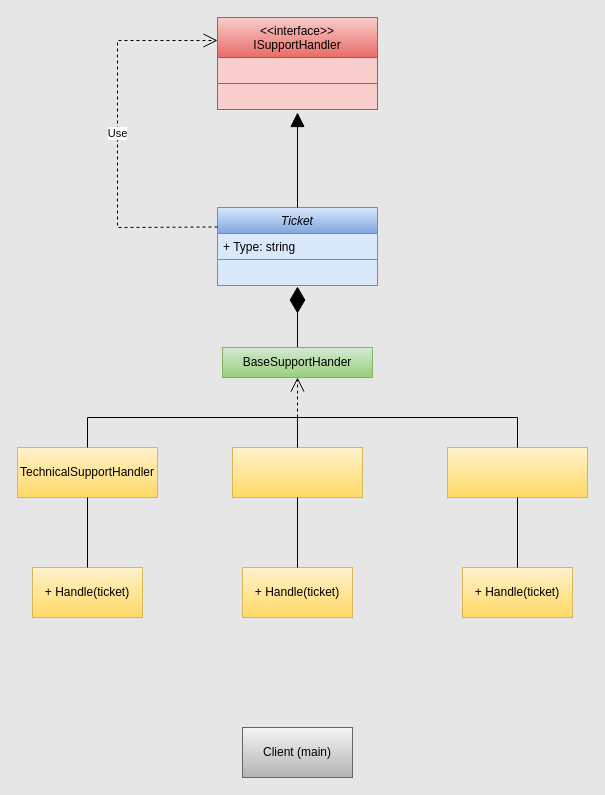
This 605x795 diagram has some shape labels left out. Here are the shapes that lost their labels. From the top down, the centre of each, then its label:
(297,70): + SetNext(handler)
(297,96): +Handle(ticket)
(297,272): + Message: string
(297,472): BillingSupportHandler
(517,472): GeneralSupportHandler
